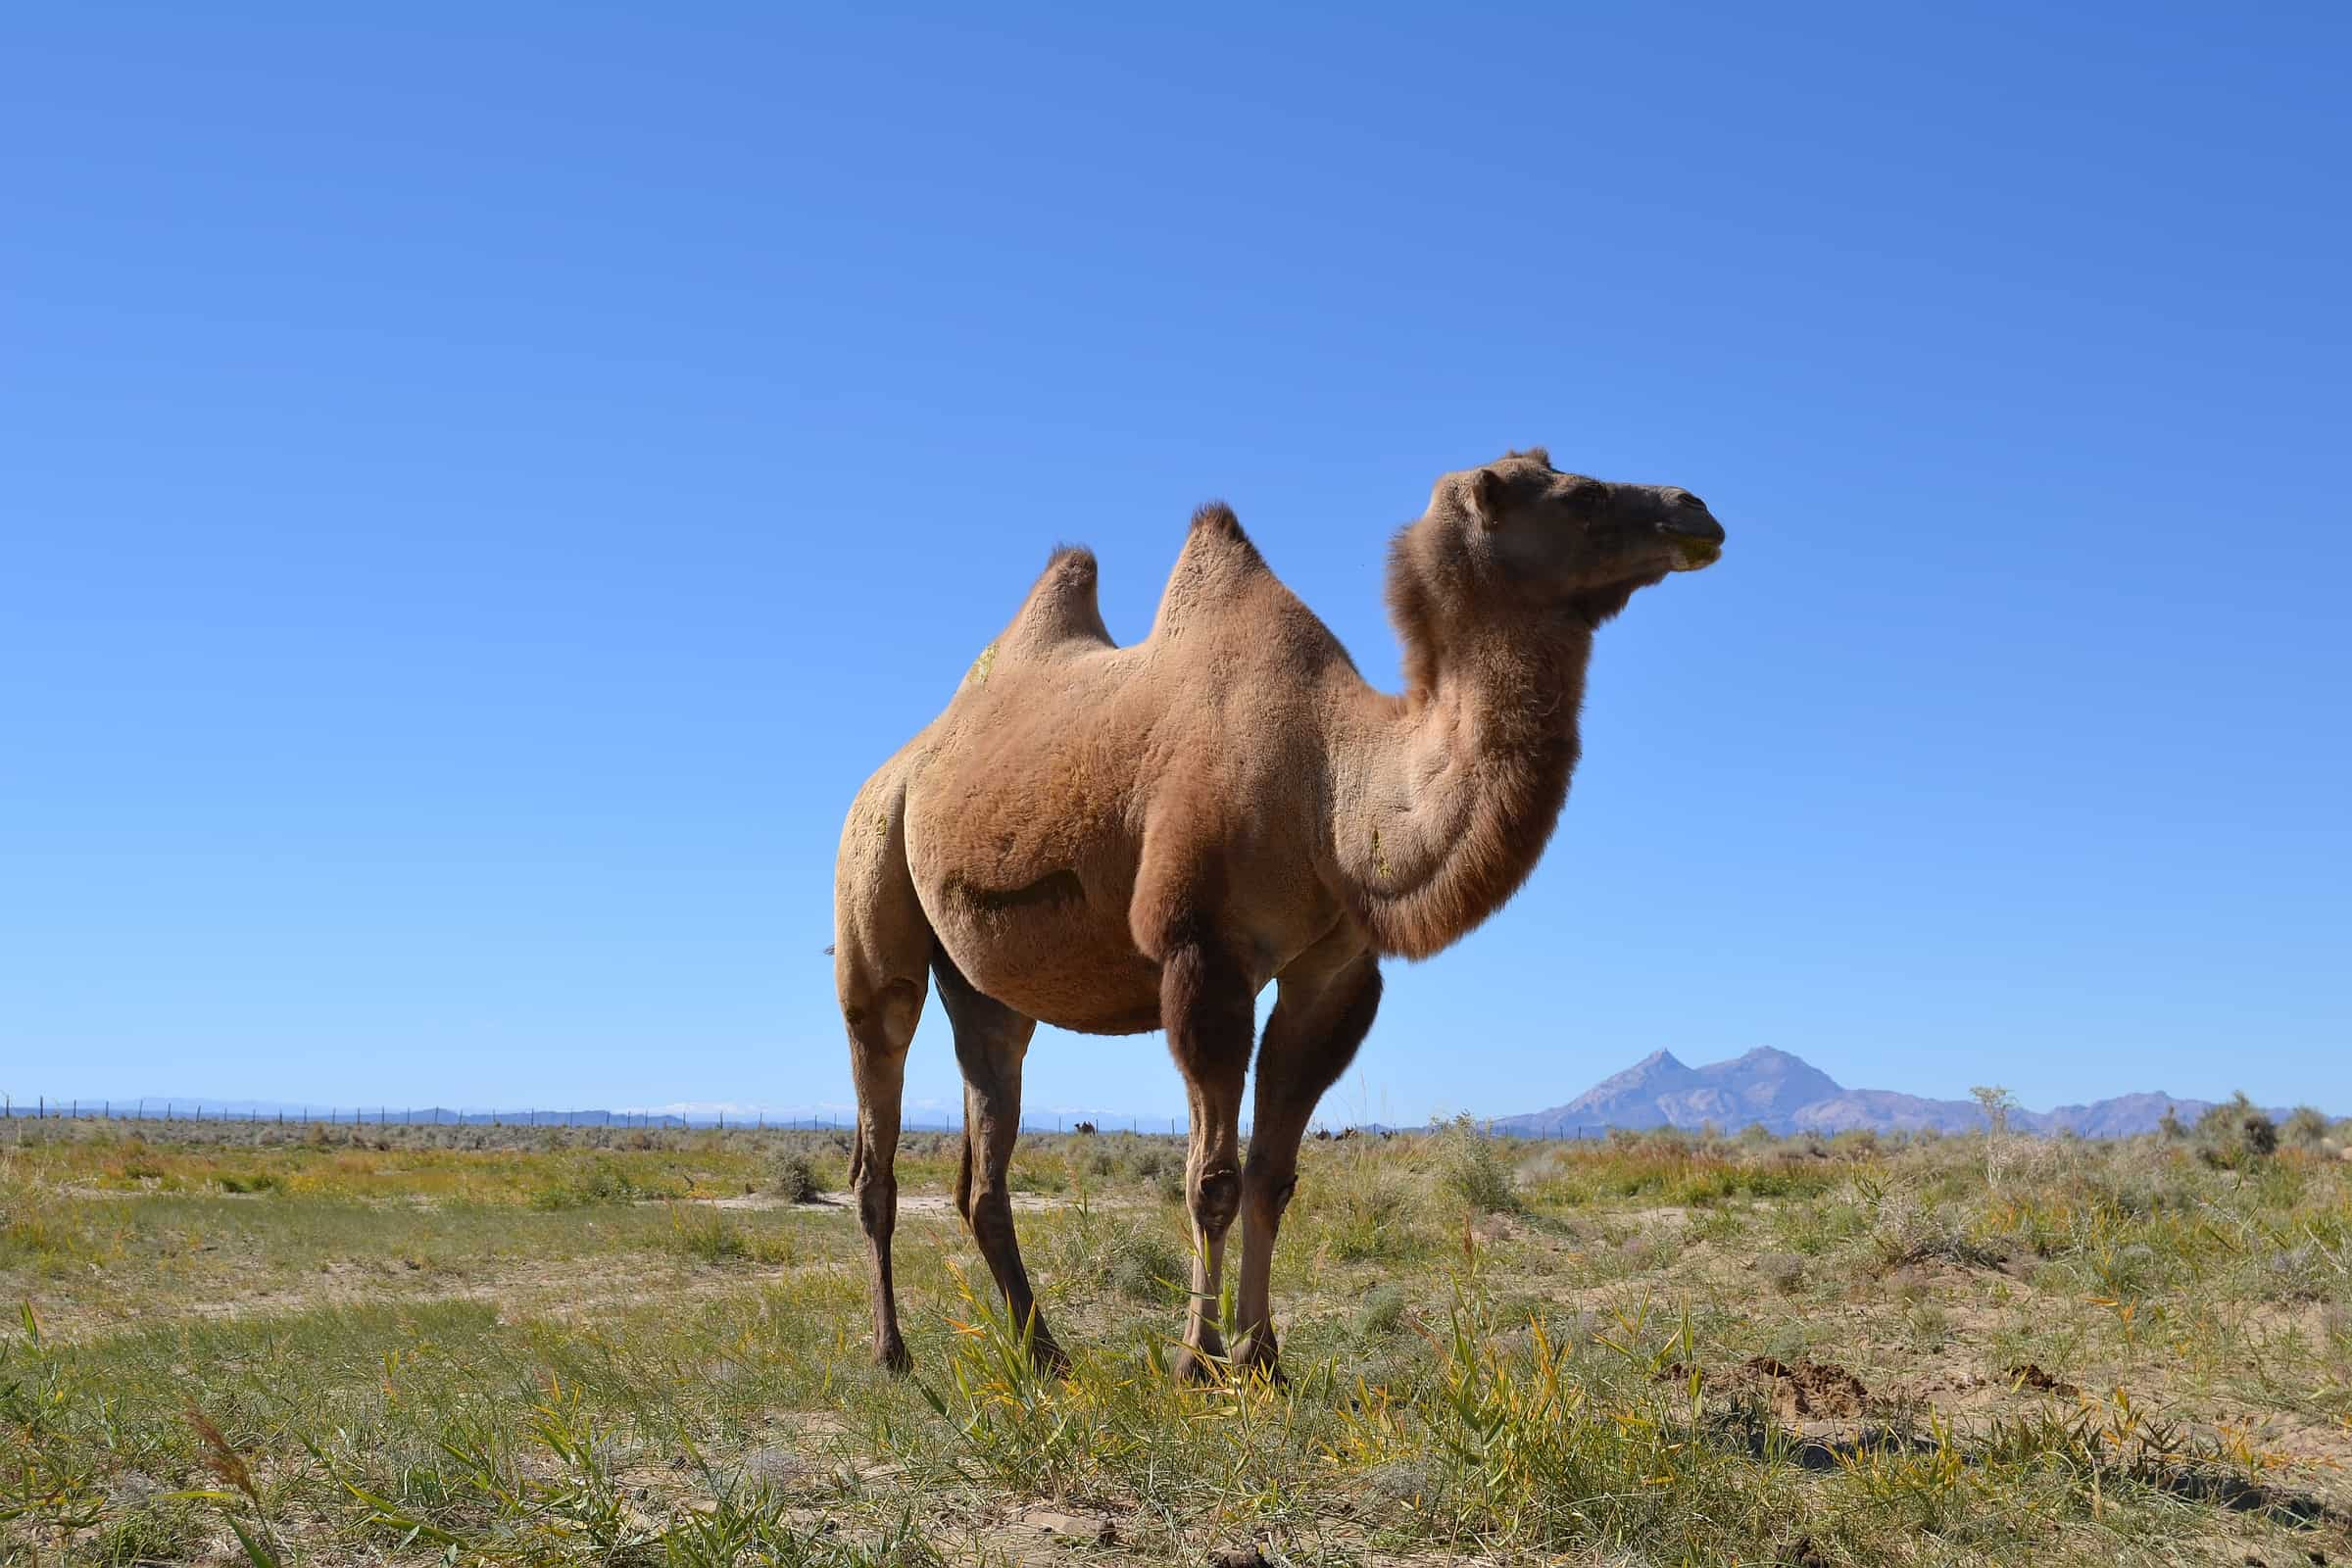camel: (829, 455, 1725, 1339)
